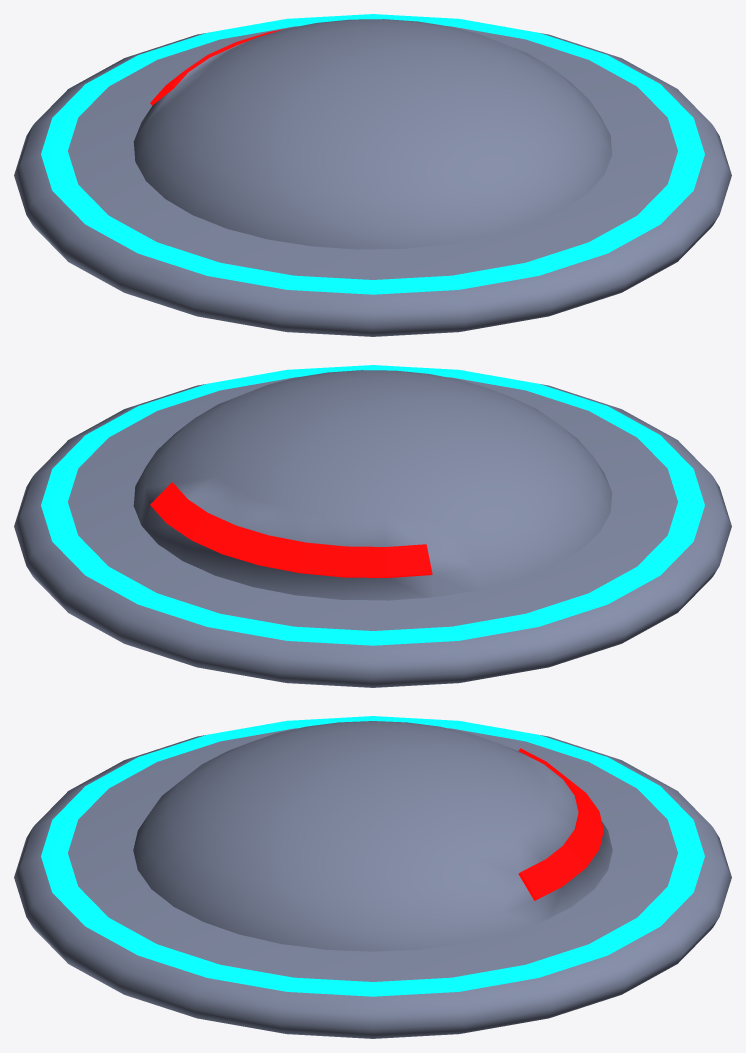
The model's file is Saucer1.dae.
The picture shows the model from 3 angles, top to bottom: view 1: azimuth 30°, elevation 25°; view 2: azimuth 150°, elevation 25°; view 3: azimuth 270°, elevation 25°; orthographic projection.
Parts seen in each view (by area): view 1: Torus; view 2: Torus; view 3: Torus.
Part boxes in pixels (x1,y1,x2,y2): Torus: (14,14,731,336); Torus: (14,365,731,687); Torus: (14,716,731,1038).
Bounding box in the file's own units: 2 × 2 × 0.7182.
